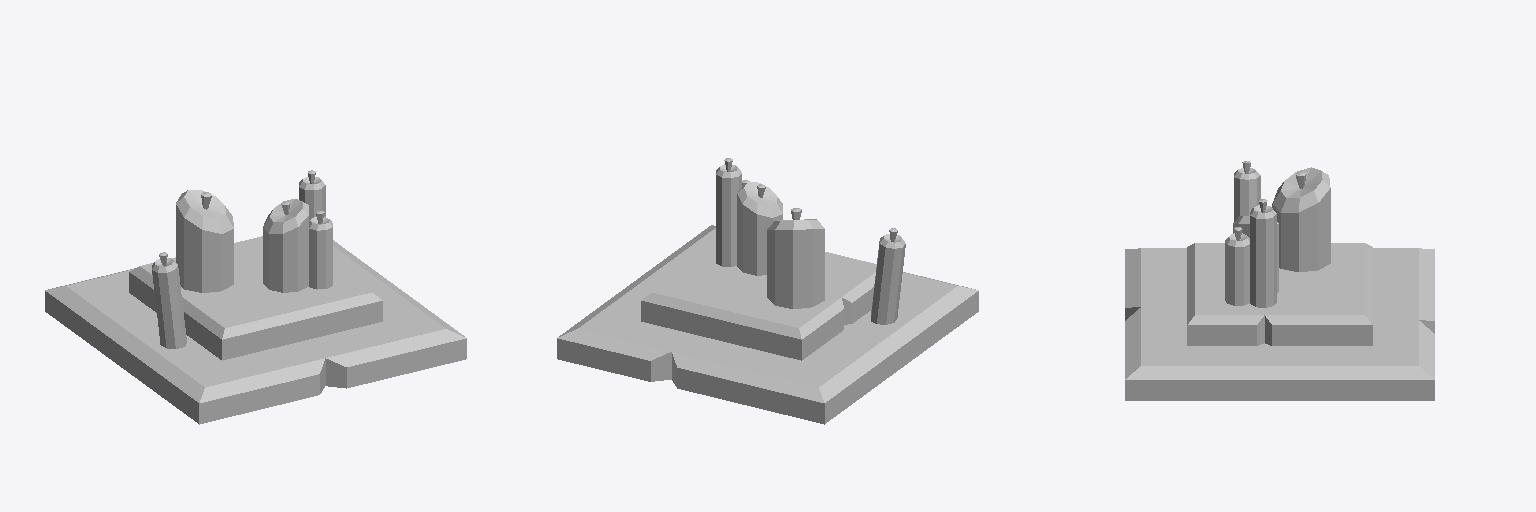
File: plaque_candles.obj
3 renders of one model, left to right at view 1: azimuth 30°, elevation 25°; view 2: azimuth 150°, elevation 25°; view 3: azimuth 270°, elevation 25°, orthographic.
Parts seen in each view (by area): view 1: plaque_candles_Cube.585; view 2: plaque_candles_Cube.585; view 3: plaque_candles_Cube.585.
Part boxes in pixels (x1,y1,x2,y2): plaque_candles_Cube.585: (45,170,466,424); plaque_candles_Cube.585: (557,158,978,424); plaque_candles_Cube.585: (1125,161,1434,400).
Bounding box in the file's own units: 2 × 1.13 × 2.